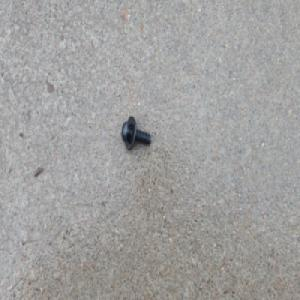BoltWasher: (119, 114, 150, 151)
